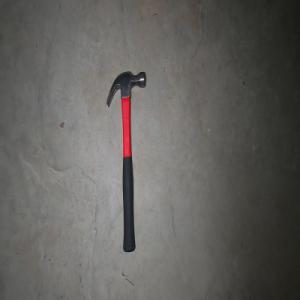Hammer: (105, 69, 146, 253)
